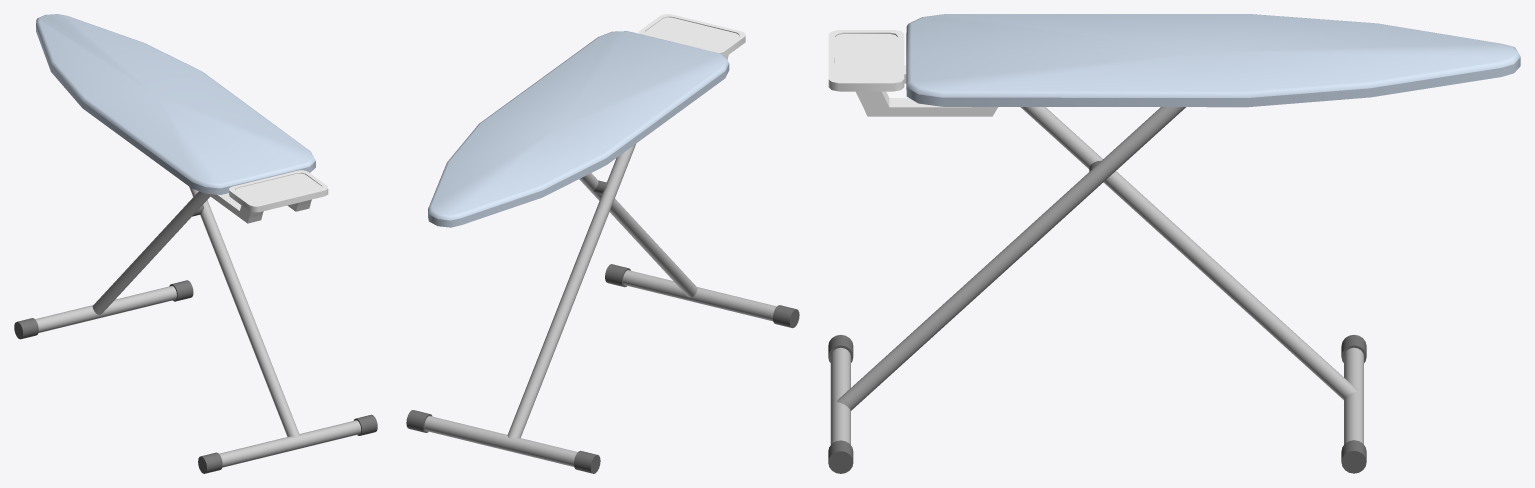
Rendered from sweethome3d-contributions-ironing-board.glb.
3 views of the same model, side by side, from view 1: azimuth 30°, elevation 25°; view 2: azimuth 150°, elevation 25°; view 3: azimuth 270°, elevation 25° (orthographic). The views are drawn at different scales.
Visible parts, largest first — view 1: planche, pied_1, Cylinder_10_1, pied_2, Cylinder_10, rectangle_arrondi, Boolean_1, Cube_6_1, embout_1, embout_3; view 2: planche, pied_2, Cylinder_10, Cylinder_10_1, pied_1, rectangle_arrondi, Boolean_1, embout_3, embout_1; view 3: planche, pied_1, pied_2, rectangle_arrondi, Cube_6, Boolean_1, Cylinder_10_1, Cylinder_10, embout_4, embout_2.
Boxes of the visible parts, <box> form: planche: <box>36,14,315,194</box>; pied_1: <box>189,186,299,437</box>; Cylinder_10_1: <box>219,420,361,467</box>; pied_2: <box>92,191,210,314</box>; Cylinder_10: <box>35,286,176,332</box>; rectangle_arrondi: <box>235,173,322,203</box>; Boolean_1: <box>229,170,328,212</box>; Cube_6_1: <box>207,193,263,223</box>; embout_1: <box>198,452,222,473</box>; embout_3: <box>14,318,38,339</box>; planche: <box>428,31,729,227</box>; pied_2: <box>507,144,635,438</box>; Cylinder_10: <box>424,416,577,466</box>; Cylinder_10_1: <box>623,270,776,321</box>; pied_1: <box>579,173,697,297</box>; rectangle_arrondi: <box>645,17,738,50</box>; Boolean_1: <box>638,14,745,57</box>; embout_3: <box>574,450,600,473</box>; embout_1: <box>773,305,799,328</box>; planche: <box>906,14,1520,107</box>; pied_1: <box>837,107,1185,410</box>; pied_2: <box>1020,107,1357,399</box>; rectangle_arrondi: <box>835,34,897,80</box>; Cube_6: <box>856,91,997,116</box>; Boolean_1: <box>828,30,904,91</box>; Cylinder_10_1: <box>830,347,850,444</box>; Cylinder_10: <box>1344,347,1363,444</box>; embout_4: <box>1341,440,1366,473</box>; embout_2: <box>828,440,853,473</box>.
Size of the model in its own units: 54.5 by 79.5 by 137.
